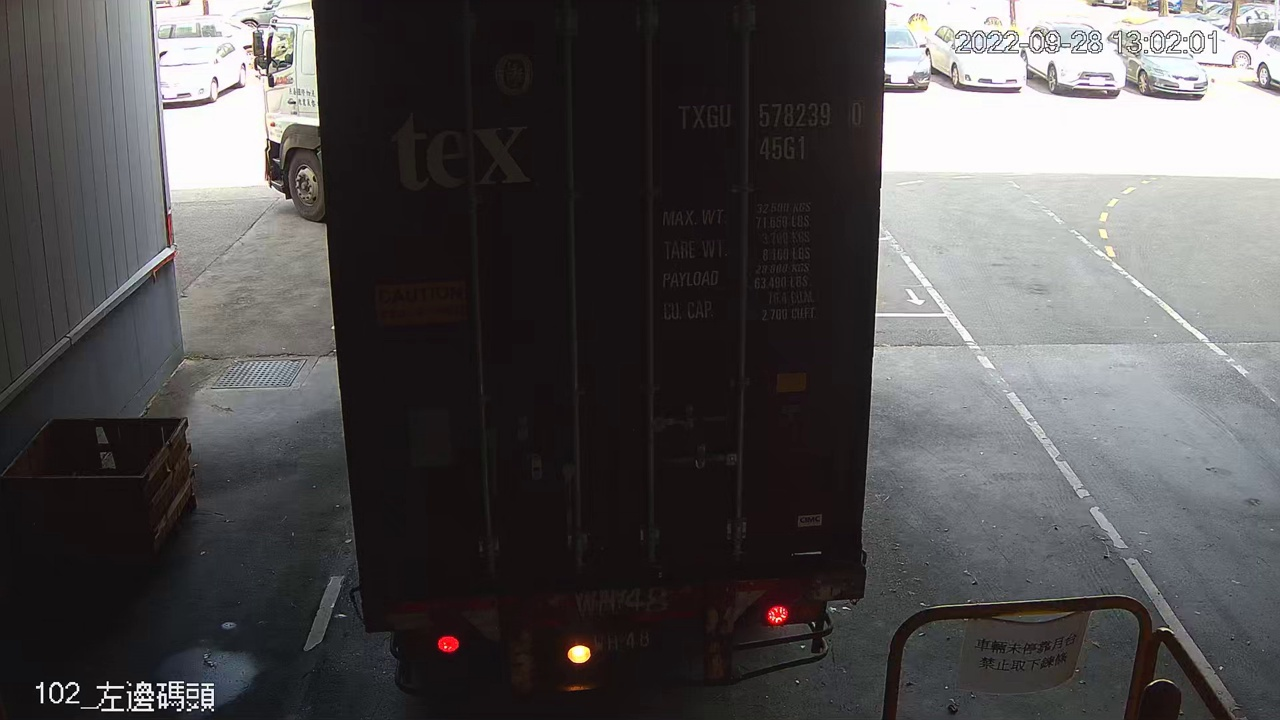container: (670, 93, 872, 166)
